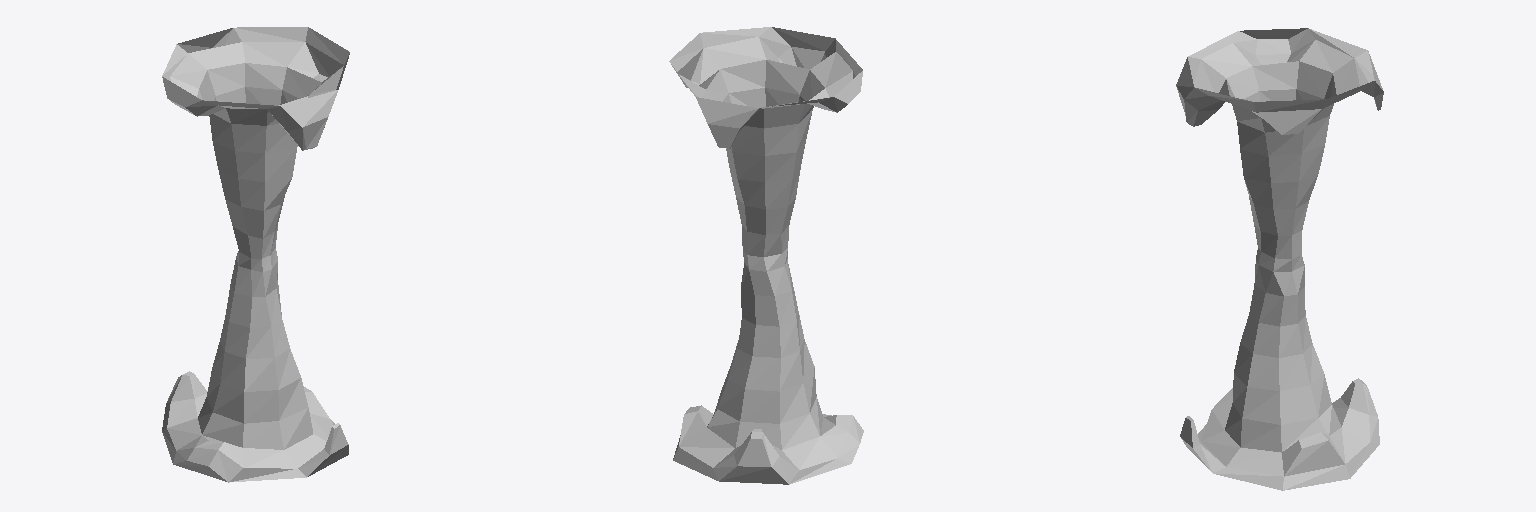
Rendered from UpDownpCone3.OBJ.
3 renders of one model, left to right at view 1: azimuth 30°, elevation 25°; view 2: azimuth 150°, elevation 25°; view 3: azimuth 270°, elevation 25°, orthographic.
Visible parts, largest first — view 1: ZBrush_defualt_group; view 2: ZBrush_defualt_group; view 3: ZBrush_defualt_group.
Part boxes in pixels (bbox=[...]): ZBrush_defualt_group: bbox=[162, 27, 349, 482]; ZBrush_defualt_group: bbox=[669, 27, 863, 484]; ZBrush_defualt_group: bbox=[1176, 28, 1383, 490].
Bounding box in the file's own units: 10.28 × 22.46 × 10.93.